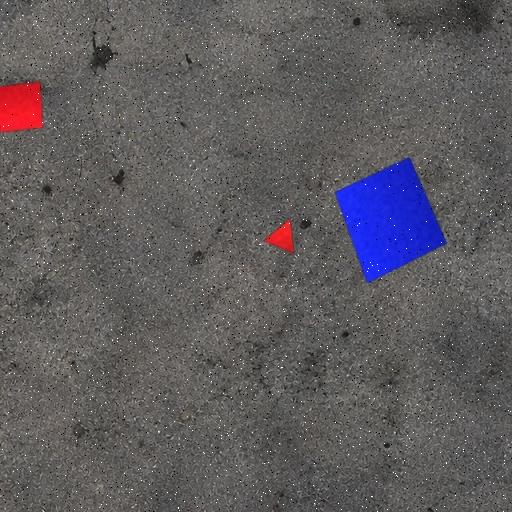BLUE_SQUARE: (334, 156, 448, 284)
RED_SQUARE: (0, 81, 44, 133)
